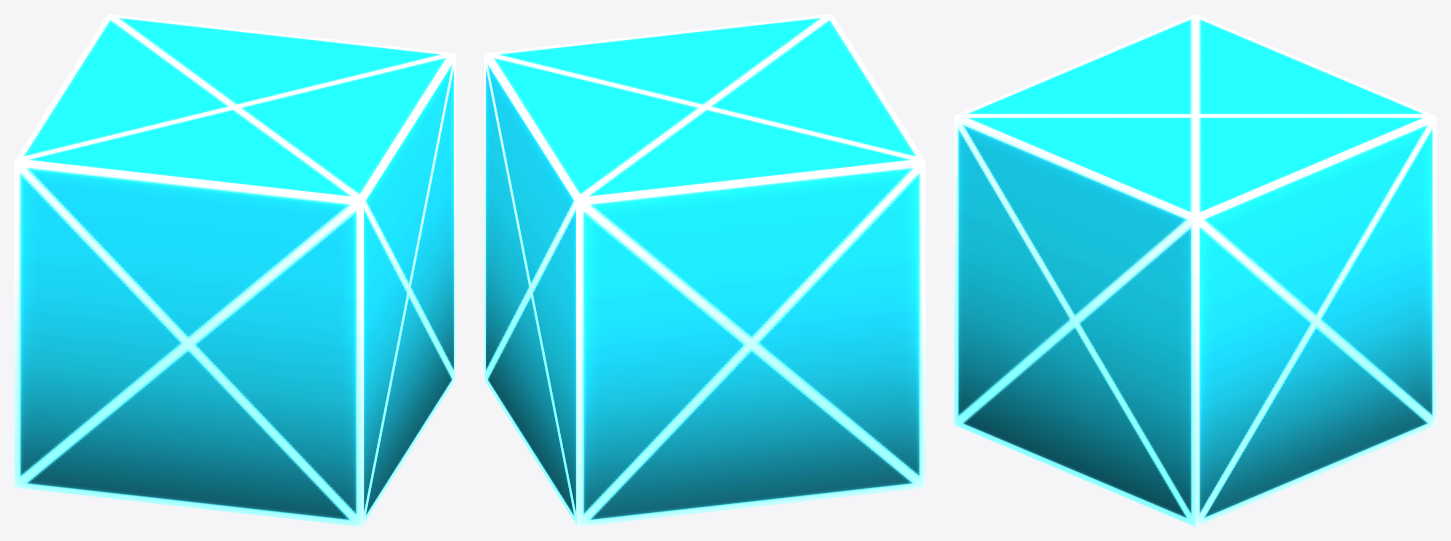
Rendered from TestObject.glb.
The picture shows the model from 3 angles, left to right: view 1: azimuth 30°, elevation 25°; view 2: azimuth 150°, elevation 25°; view 3: azimuth 270°, elevation 25°; orthographic projection. The views are drawn at different scales.
Visible parts, largest first — view 1: TestObject; view 2: TestObject; view 3: TestObject.
Boxes of the visible parts, box(x1,y1,x2,y2) form: TestObject: box(14, 14, 455, 526); TestObject: box(484, 14, 925, 526); TestObject: box(954, 14, 1436, 526).
Bounding box in the file's own units: 0.8852 × 0.6259 × 0.8852.
Materials: 1 (1 with a texture image).
